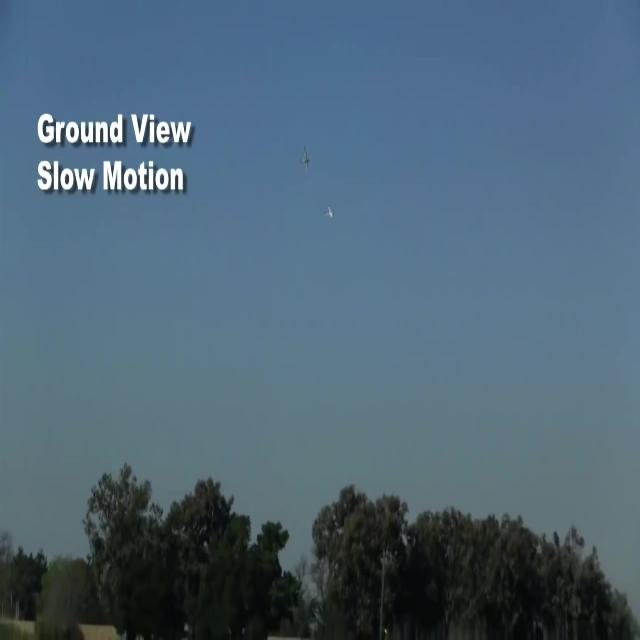iha: (299, 144, 311, 174), (315, 204, 329, 219)
